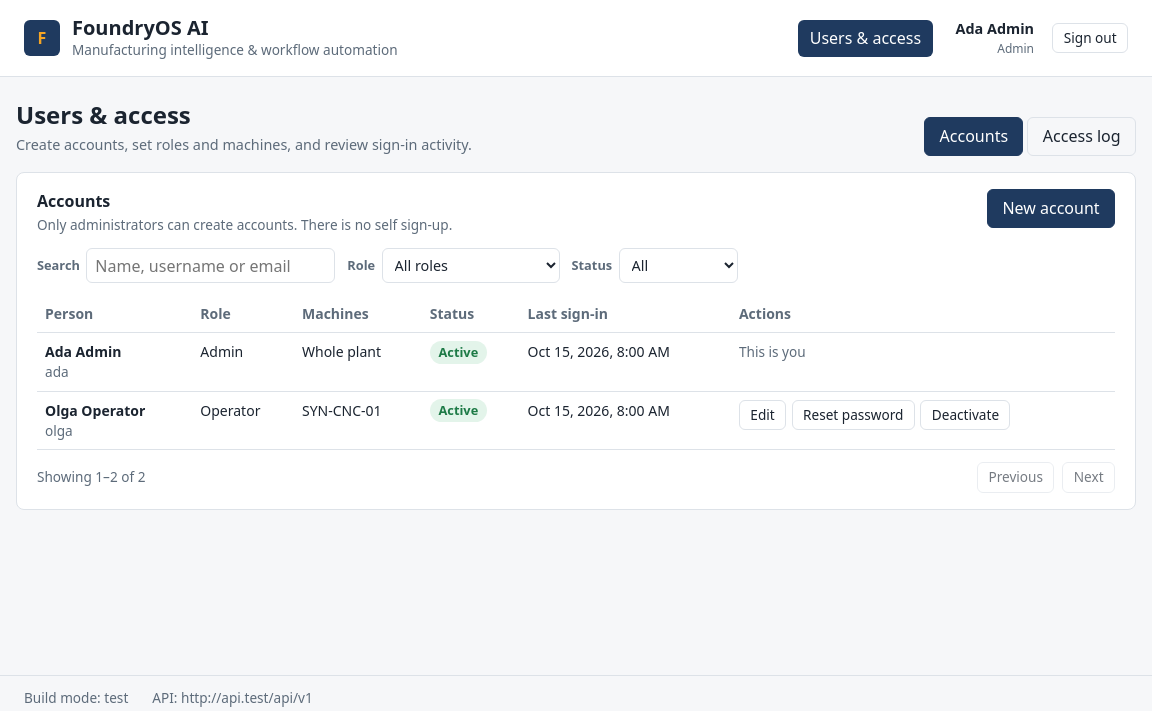
it: AdminPage › resets to a password the admin chooses, without forcing a change
The width and height of the screenshot is (1152, 711).
Click the button "Reset password" at (853, 415), box [792, 400, 915, 430]
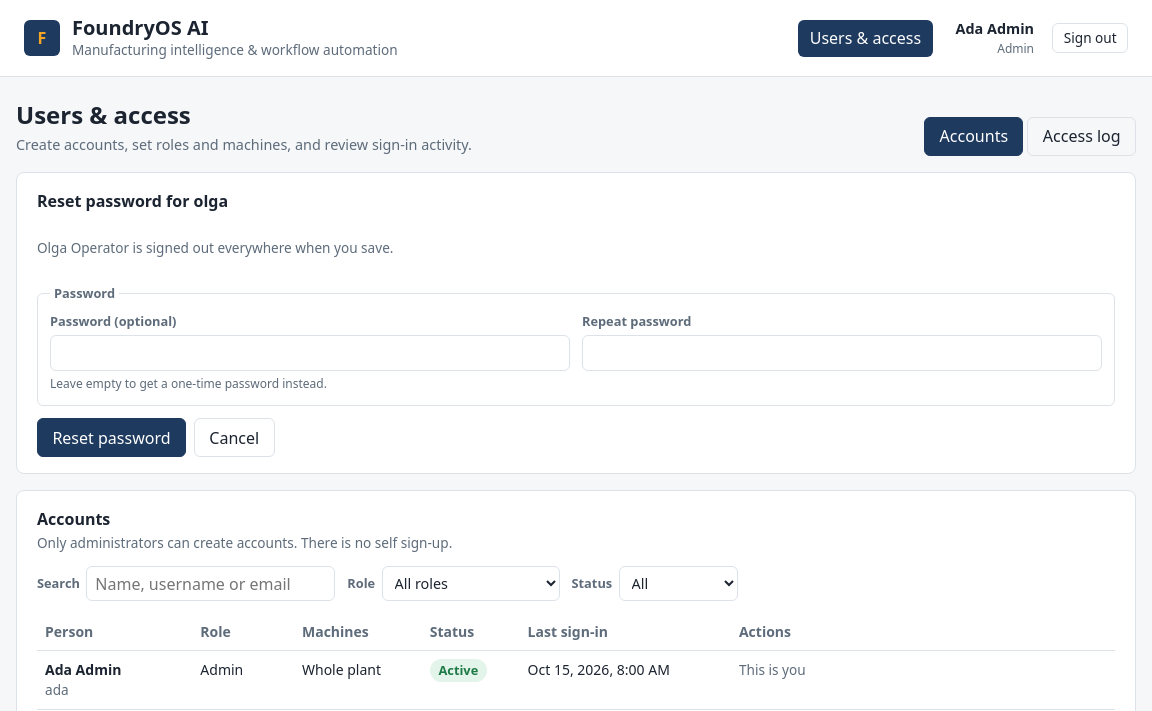
Type "Floor-easy-2026" into the password field labelled "Password (optional)" at (310, 353), box [50, 335, 570, 371]
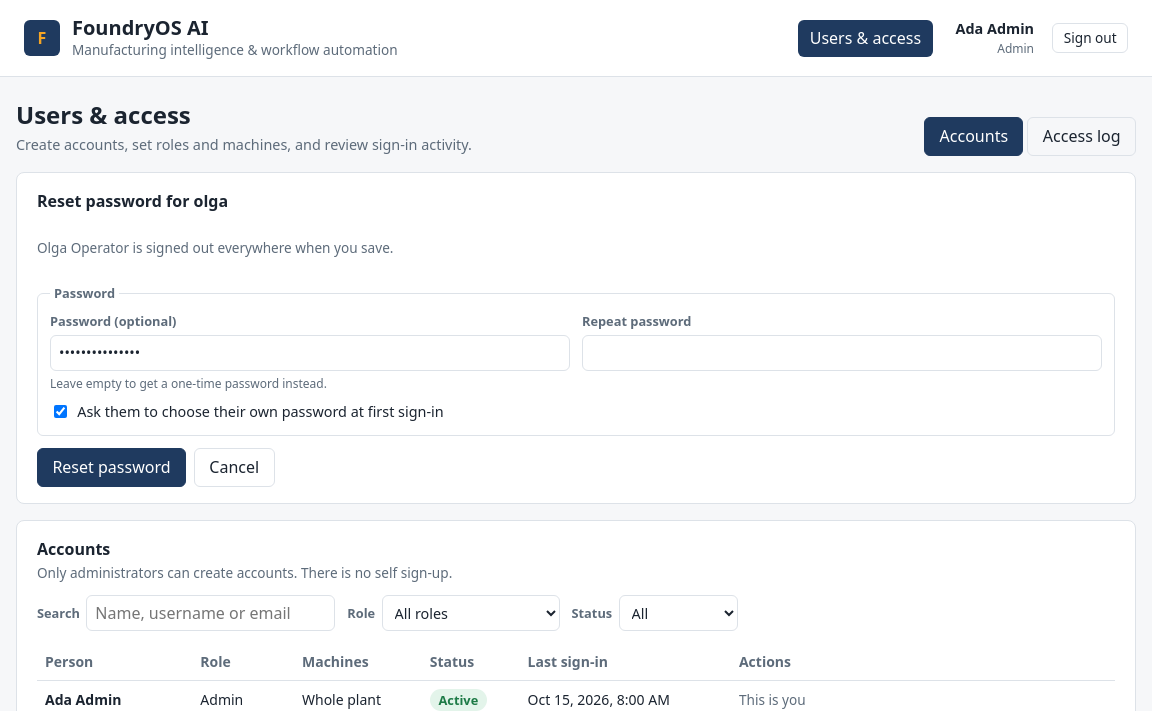
Type "Floor-easy-2026" into the password field labelled "Repeat password" at (842, 353), box [582, 335, 1102, 371]
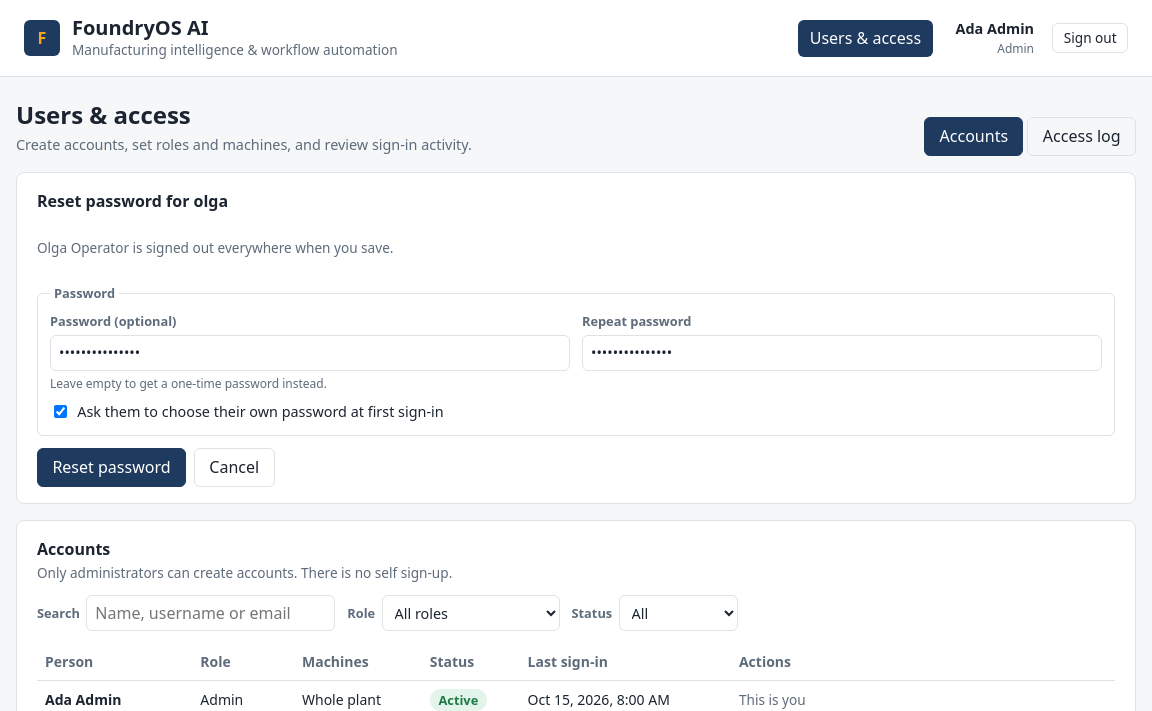
Click the checkbox labelled "Ask them to choose their own password at first sign-in" at (60, 412), box [54, 405, 67, 418]
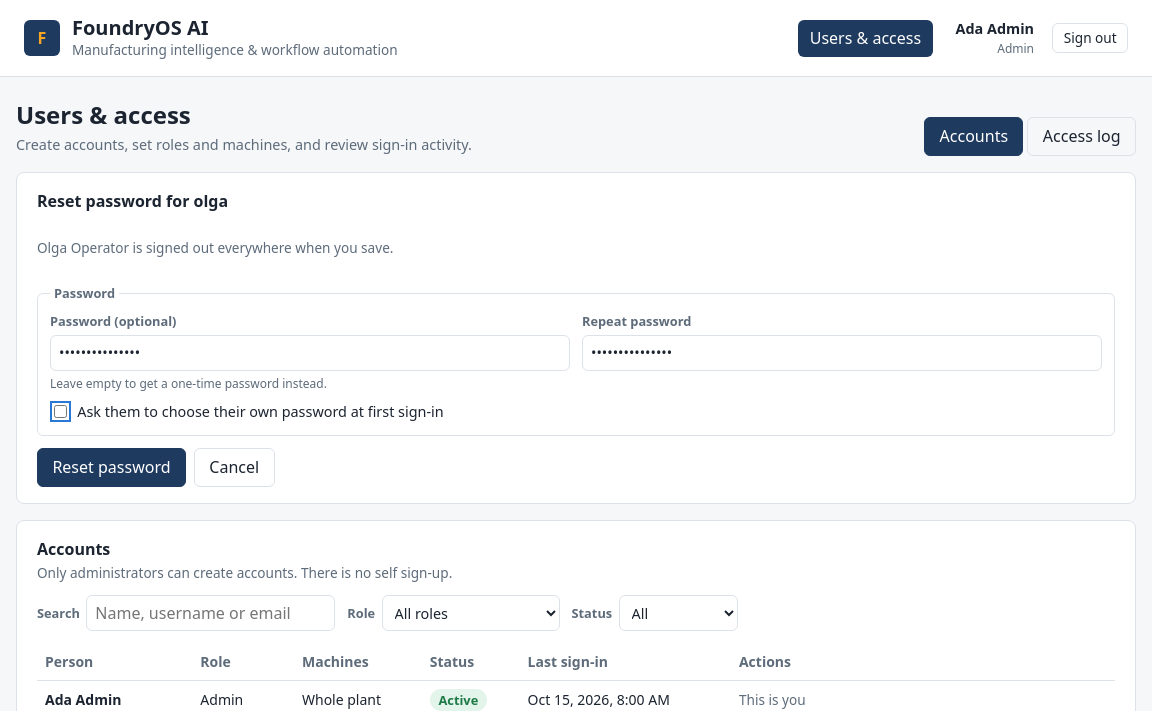
Click the button "Reset password" at (111, 467), box [37, 448, 186, 486]
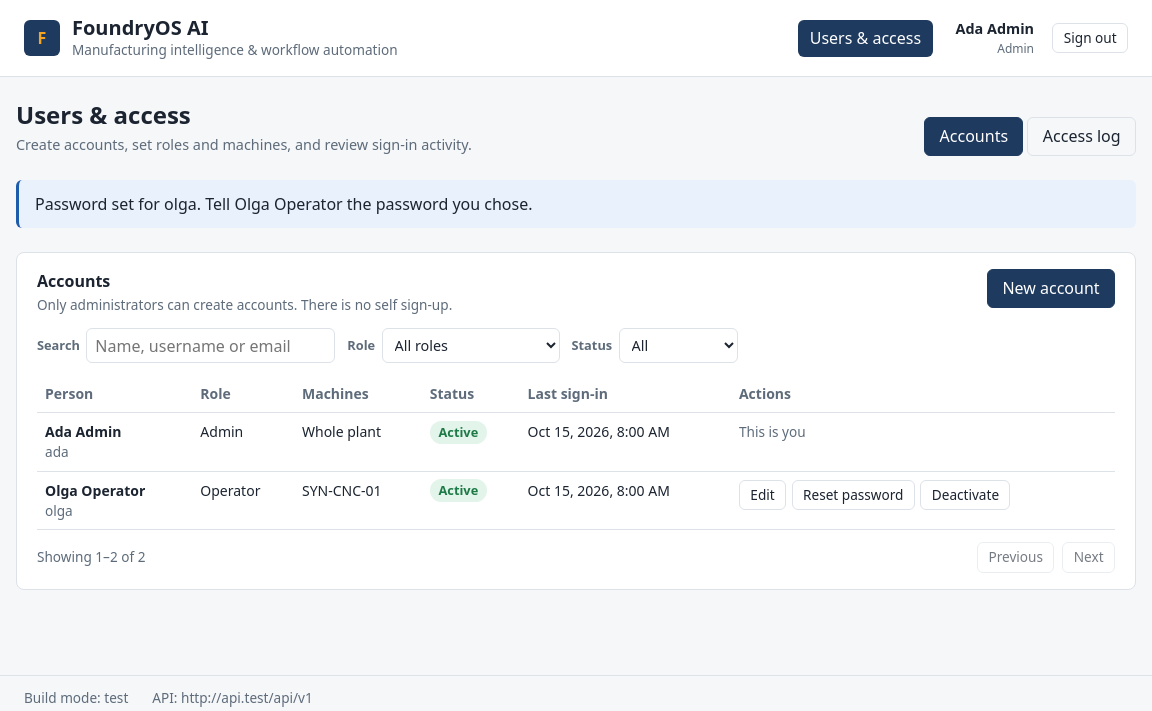
Result: the text "Password set for olga. Tell Olga Operator the password you chose." is shown at [16, 180, 1136, 228]
Result: the text "one-time password" is gone
